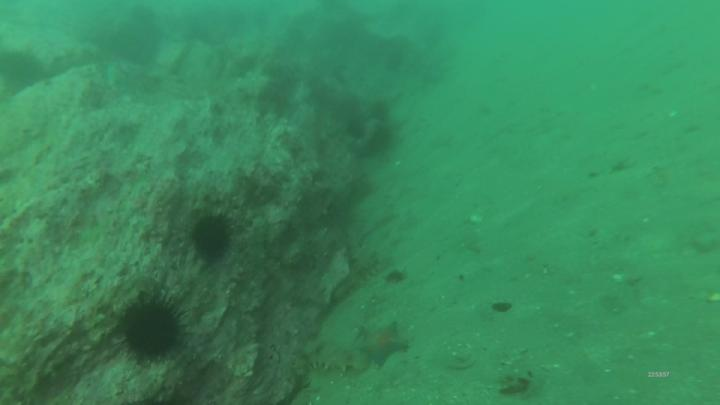echinus: (123, 308, 179, 353), (189, 217, 234, 260)
holothurian: (302, 347, 359, 374)
starfish: (363, 322, 405, 364)
